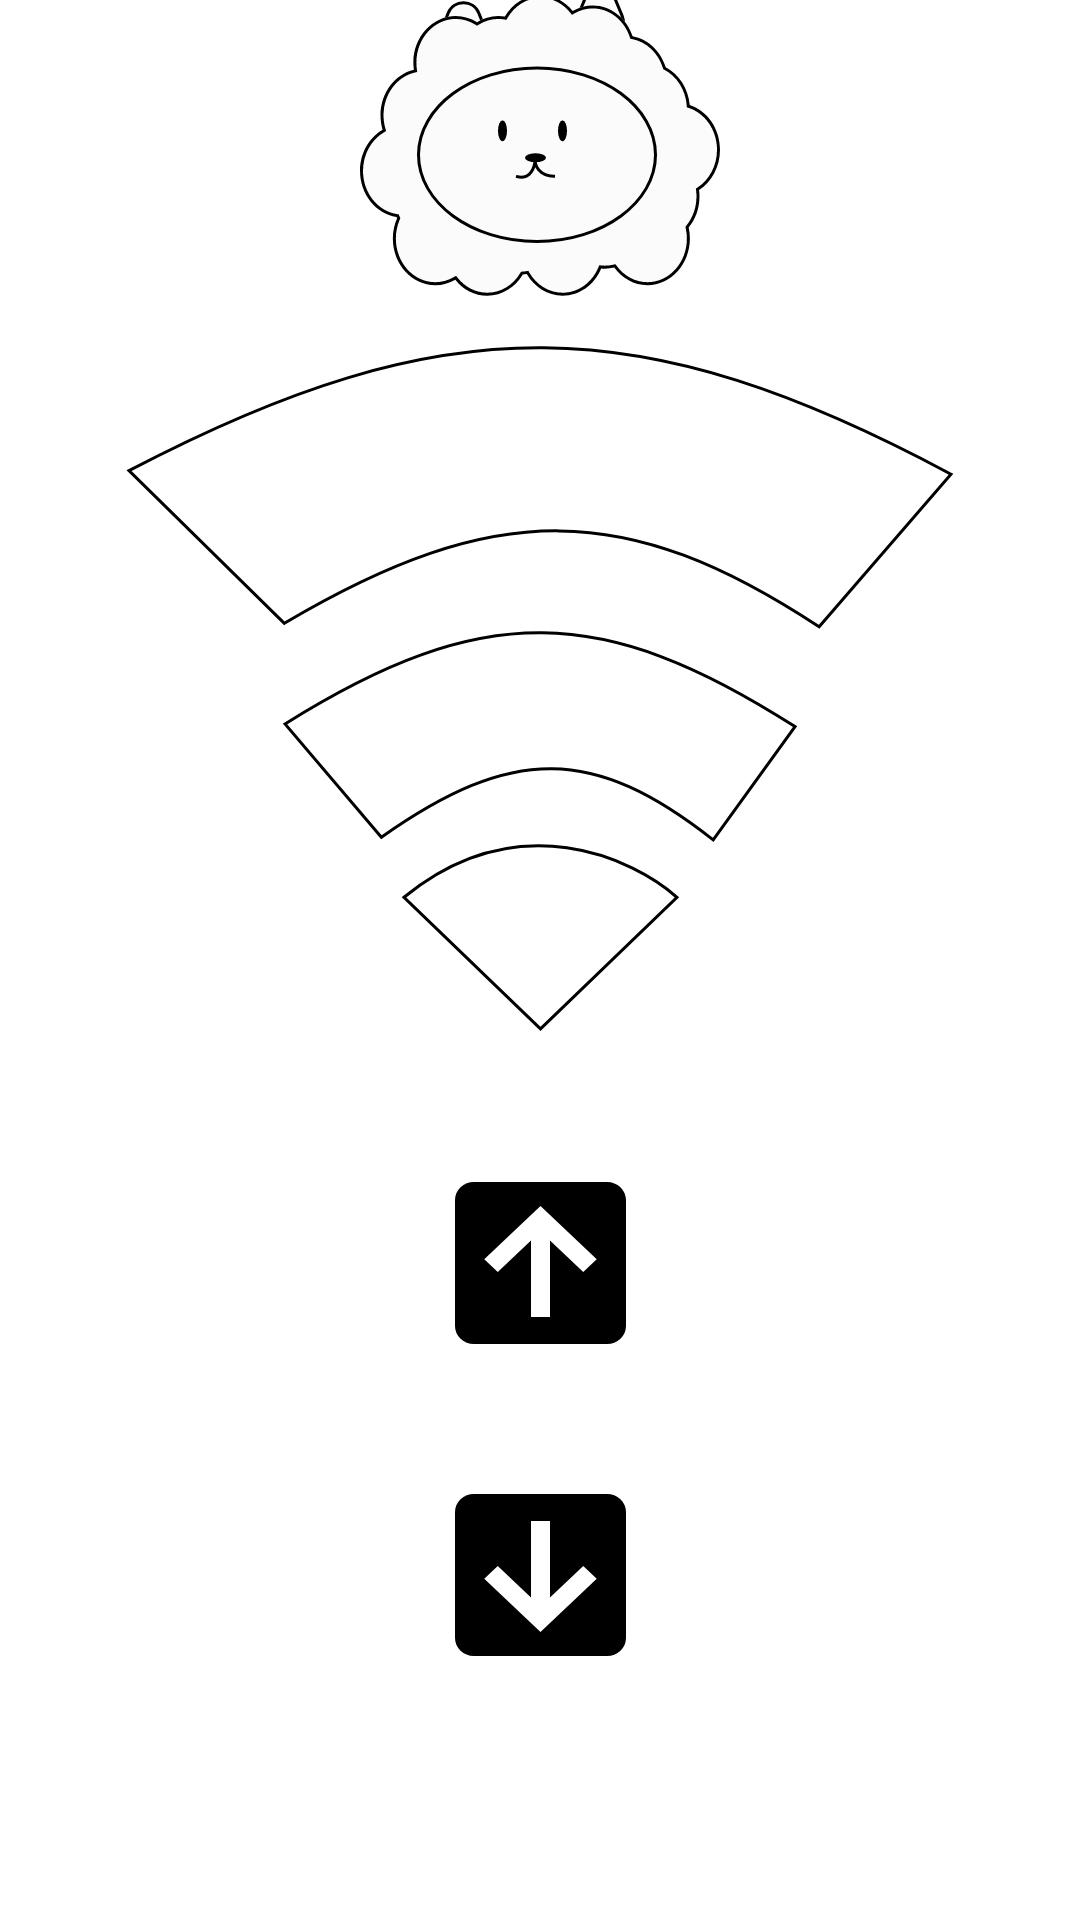

Screen size 1080x1920. Icon name, then its center in pixels as (x=x, y=y):
vibrate down: (x=540, y=1575)
vibrate up: (x=540, y=1263)
